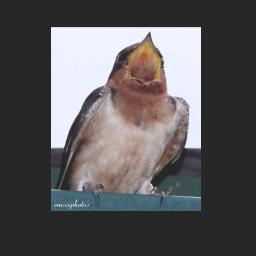Swallow: (56, 31, 190, 205)
